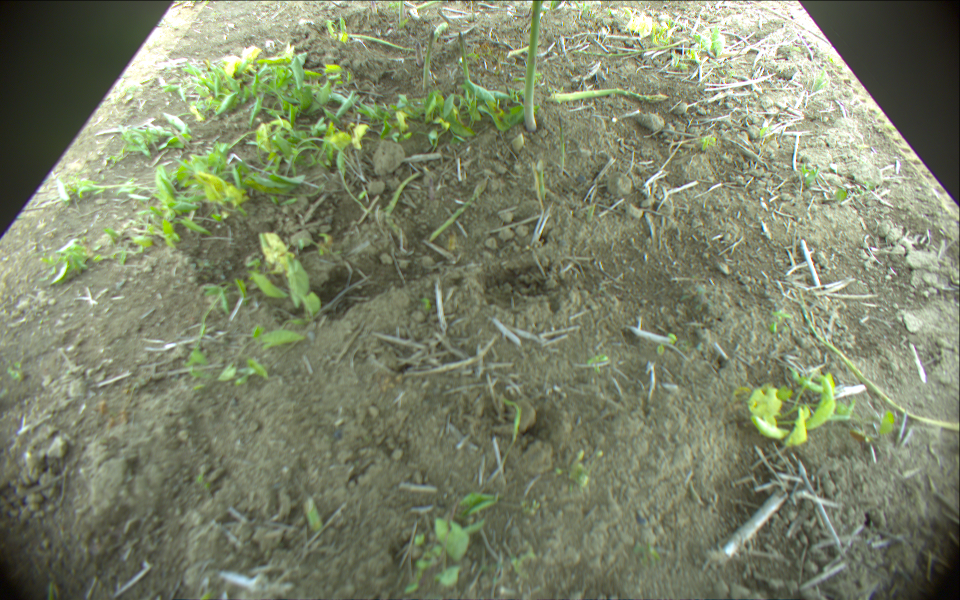aspa: (796, 294, 960, 431), (429, 179, 489, 242), (546, 84, 672, 106), (525, 1, 544, 131), (329, 29, 417, 53), (421, 27, 438, 92), (458, 30, 470, 93), (414, 40, 423, 66), (398, 1, 407, 23)
